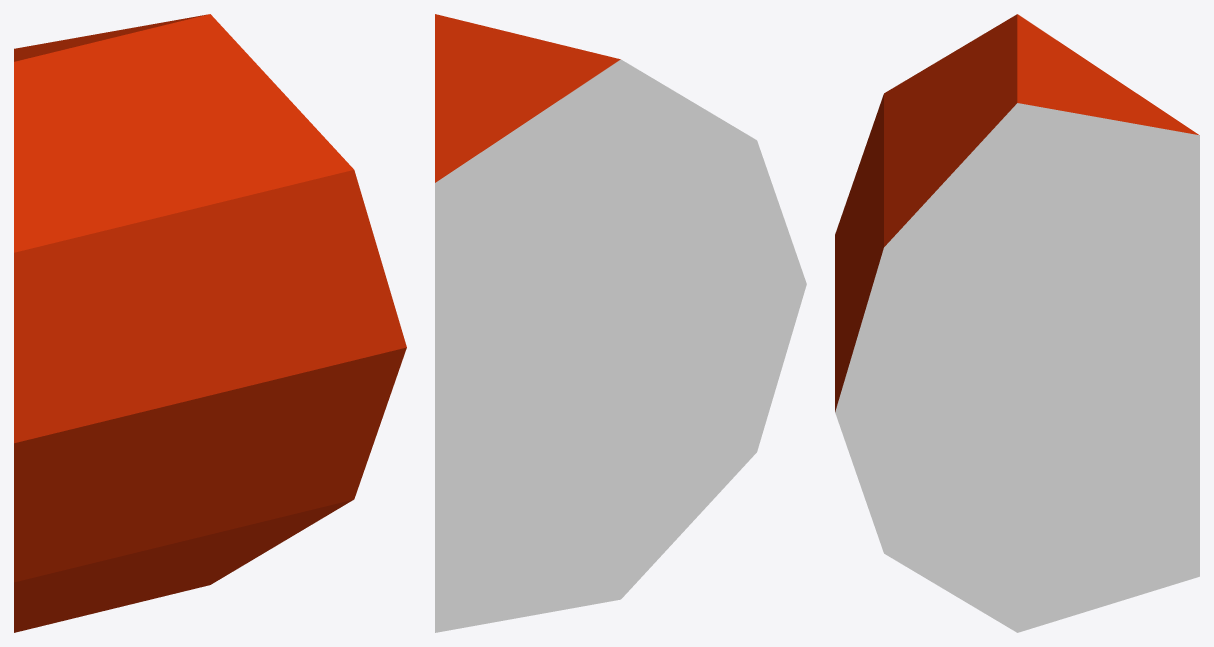
The model's file is food_apple_slice.fbx.
3 views of the same model, side by side, from view 1: azimuth 30°, elevation 25°; view 2: azimuth 150°, elevation 25°; view 3: azimuth 270°, elevation 25° (orthographic). The views are drawn at different scales.
Visible parts, largest first — view 1: polySurface121; view 2: polySurface121; view 3: polySurface121.
Part boxes in pixels (left/top/right/bottom): polySurface121: left=14, top=14, right=406, bottom=632; polySurface121: left=435, top=14, right=806, bottom=632; polySurface121: left=835, top=14, right=1199, bottom=632.
Size of the model in its own units: 26.71 by 37.09 by 23.13.
Materials: 1 (1 with a texture image).
